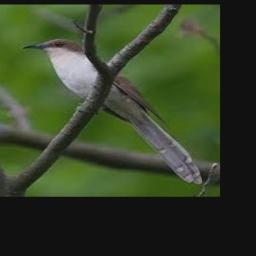Cuckoo: (22, 38, 201, 184)
